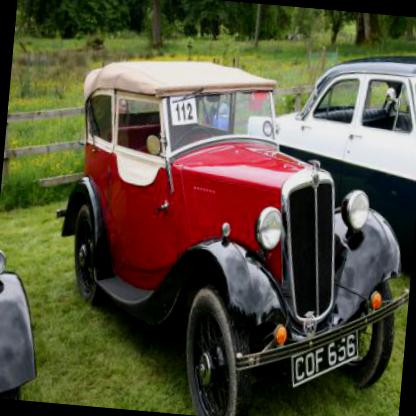car: (43, 54, 415, 415), (229, 42, 415, 312), (0, 189, 62, 402)
